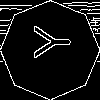Y: (25, 25, 70, 58)
